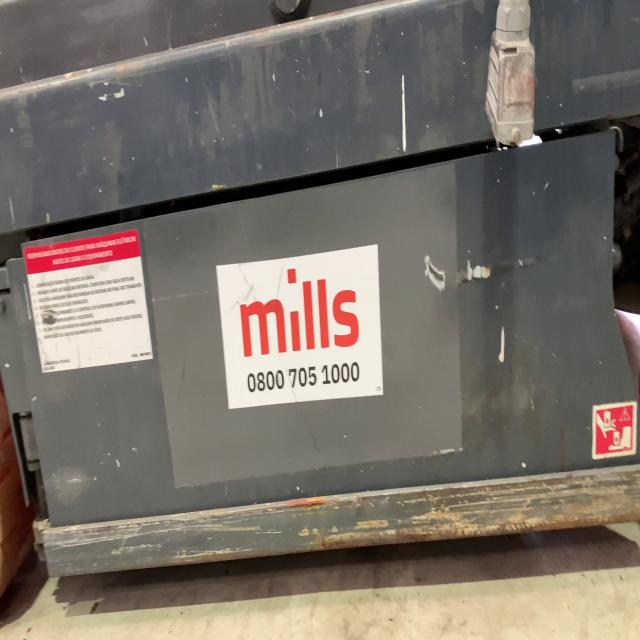Adesivos: (214, 241, 391, 415)
